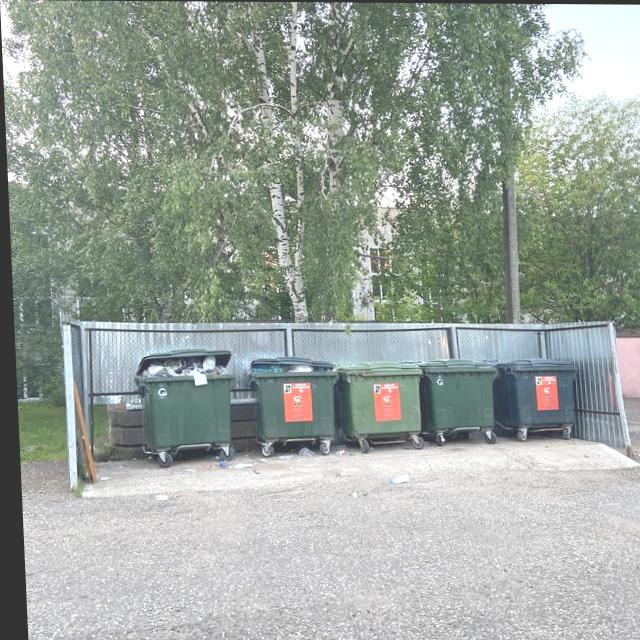Trash_Can_Closed: (333, 360, 422, 435), (491, 357, 575, 428), (420, 358, 494, 430)
Trash_Can_Full: (132, 357, 232, 449), (248, 357, 333, 440)
